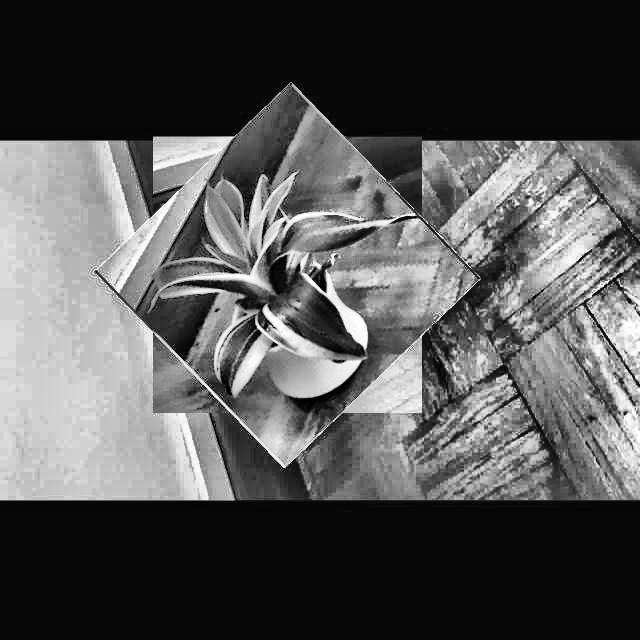plants: (122, 110, 452, 440)
